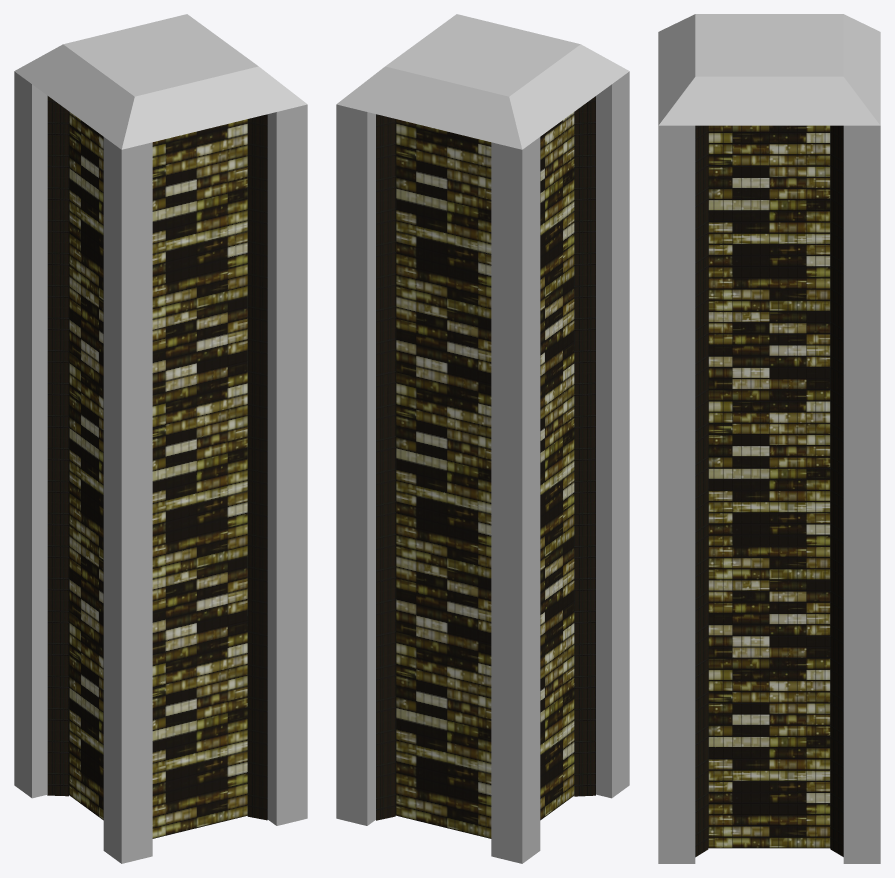
File: Haus1.dae
3 views of the same model, side by side, from view 1: azimuth 30°, elevation 25°; view 2: azimuth 150°, elevation 25°; view 3: azimuth 270°, elevation 25° (orthographic). The views are drawn at different scales.
Visible parts, largest first — view 1: cube1, cube6, cube5, cube3, cube2, cylinder14, cylinder8; view 2: cube1, cube3, cube4, cube6, cube2, cylinder13, cylinder10; view 3: cube1, cube4, cube5, cube2, cylinder11, cylinder12, cylinder8.
Part boxes in pixels (box(x1,y1,x2,y2)): cube1: box(69, 112, 247, 838); cube6: box(103, 137, 152, 863); cube5: box(267, 104, 307, 825); cube3: box(14, 71, 47, 798); cube2: box(14, 14, 307, 149); cylinder14: box(47, 96, 69, 796); cylinder8: box(247, 114, 267, 820); cube1: box(395, 112, 574, 838); cube3: box(491, 137, 540, 863); cube4: box(336, 104, 375, 825); cube6: box(596, 71, 629, 798); cube2: box(336, 14, 629, 149); cylinder13: box(574, 96, 595, 796); cylinder10: box(376, 114, 395, 820); cube1: box(695, 125, 830, 848); cube4: box(843, 125, 880, 863); cube5: box(658, 125, 695, 863); cube2: box(658, 14, 880, 125); cylinder11: box(695, 125, 708, 857); cylinder12: box(830, 125, 843, 856); cylinder8: box(695, 126, 695, 709).
Size of the model in its own units: 768 by 2948 by 768.
